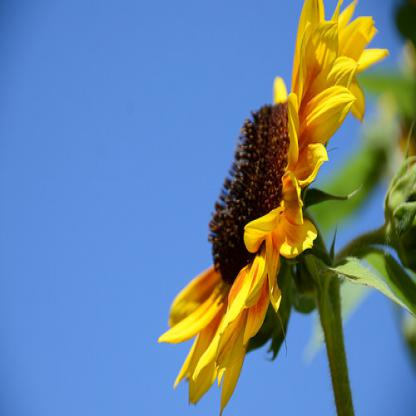SUN FLOWER: (136, 11, 405, 404)
